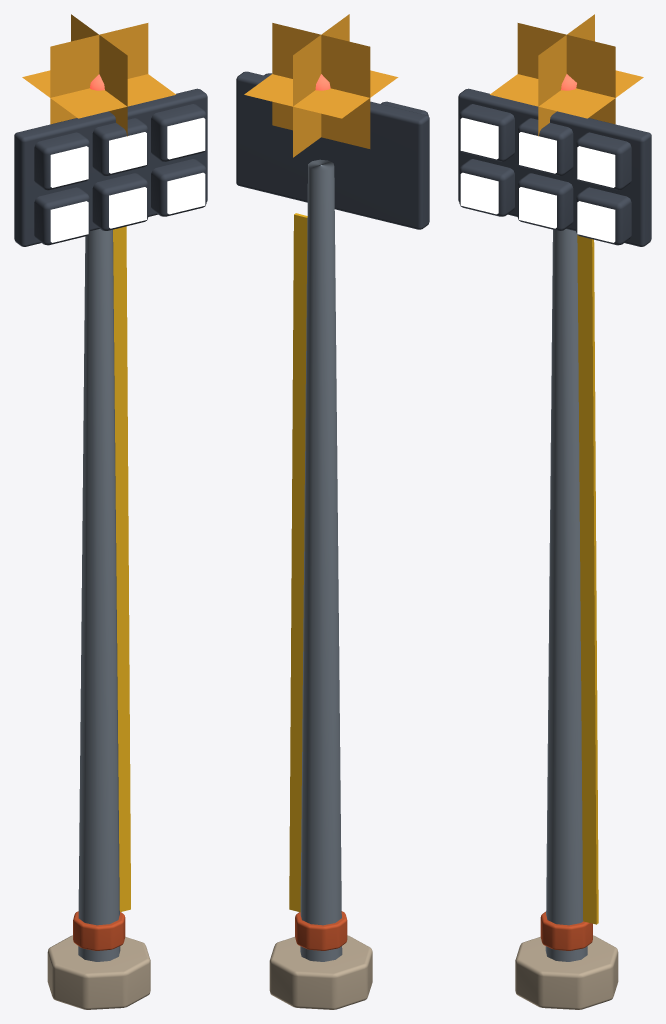
Rendered from dune_light_mast.glb.
3 views of the same model, side by side, from view 1: azimuth 30°, elevation 25°; view 2: azimuth 150°, elevation 25°; view 3: azimuth 330°, elevation 25° (orthographic).
Parts seen in each view (by area): view 1: LightMast; view 2: LightMast; view 3: LightMast.
Boxes of the visible parts, left/top/right/bottom form: LightMast: left=14, top=14, right=207, bottom=1009; LightMast: left=236, top=14, right=429, bottom=1009; LightMast: left=458, top=14, right=651, bottom=1009.
Size of the model in its own units: 3.2 by 15.64 by 1.72.
